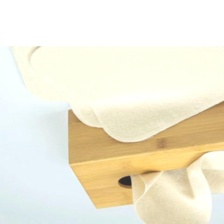tissue: (2, 46, 224, 147), (123, 146, 224, 224)
